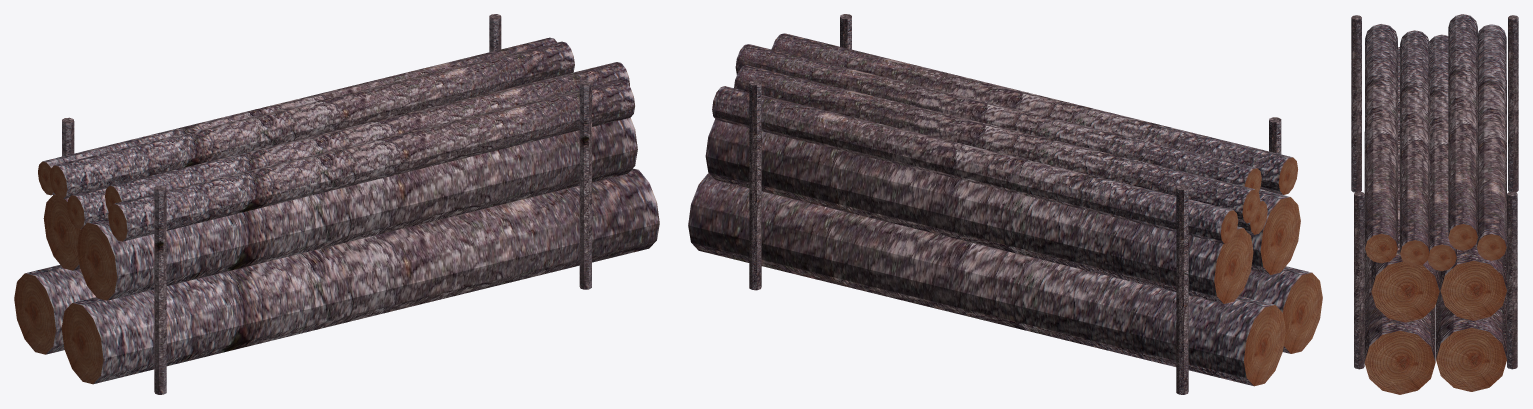
File: Vl_Logs.glb
3 views of the same model, side by side, from view 1: azimuth 30°, elevation 25°; view 2: azimuth 150°, elevation 25°; view 3: azimuth 270°, elevation 25° (orthographic). The views are drawn at different scales.
Visible parts, largest first — view 1: PileOfLogs; view 2: PileOfLogs; view 3: PileOfLogs.
Boxes of the visible parts, bbox=[...] form: PileOfLogs: bbox=[14, 14, 659, 394]; PileOfLogs: bbox=[688, 14, 1322, 394]; PileOfLogs: bbox=[1351, 14, 1518, 394].
Size of the model in its own units: 2.24 by 0.7797 by 0.6822.
2 materials, 2 textured.
